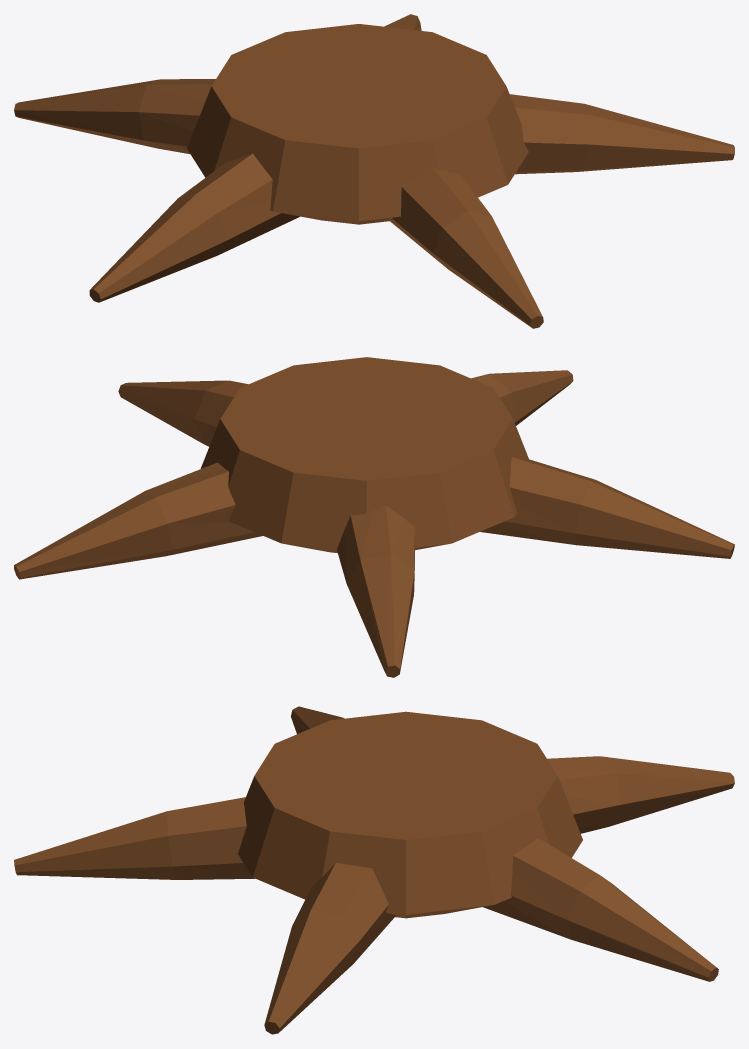
Rendered from Taproot.glb.
The picture shows the model from 3 angles, top to bottom: view 1: azimuth 30°, elevation 25°; view 2: azimuth 150°, elevation 25°; view 3: azimuth 270°, elevation 25°; orthographic projection. The views are drawn at different scales.
Parts seen in each view (by area): view 1: Taproot_Root; view 2: Taproot_Root; view 3: Taproot_Root.
Boxes of the visible parts, x1=… form: Taproot_Root: x1=14, y1=14, x2=734, y2=328; Taproot_Root: x1=14, y1=357, x2=734, y2=677; Taproot_Root: x1=14, y1=706, x2=734, y2=1034.
Size of the model in its own units: 3.7 by 0.6 by 3.56.
